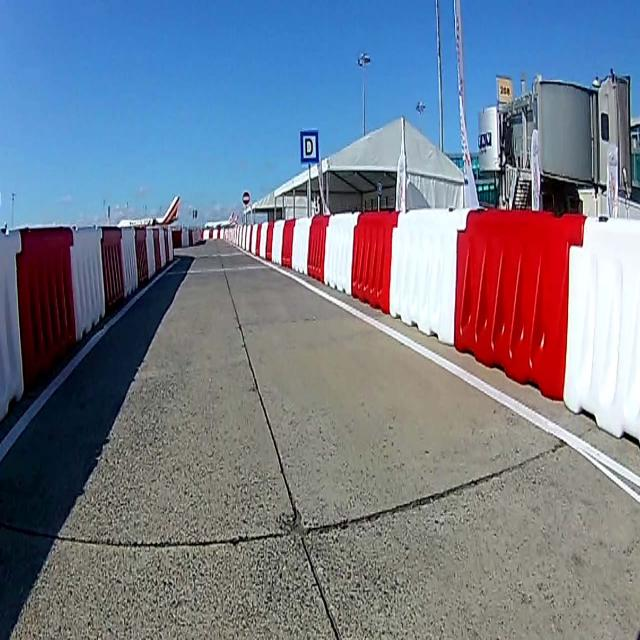durak: (299, 128, 319, 164)
girisyok: (242, 190, 252, 204)
